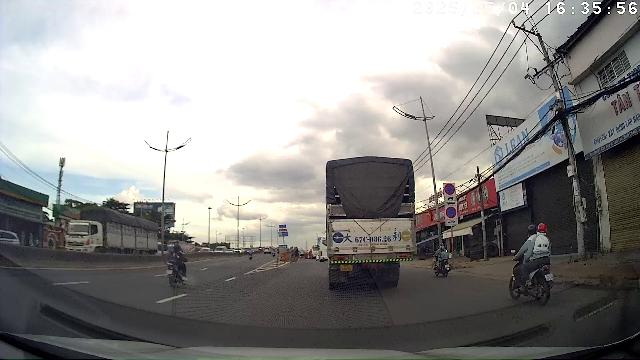130-cam-dung-va-do-xe: (444, 183, 456, 195)
131a-cam-do-xe: (445, 206, 457, 218)
